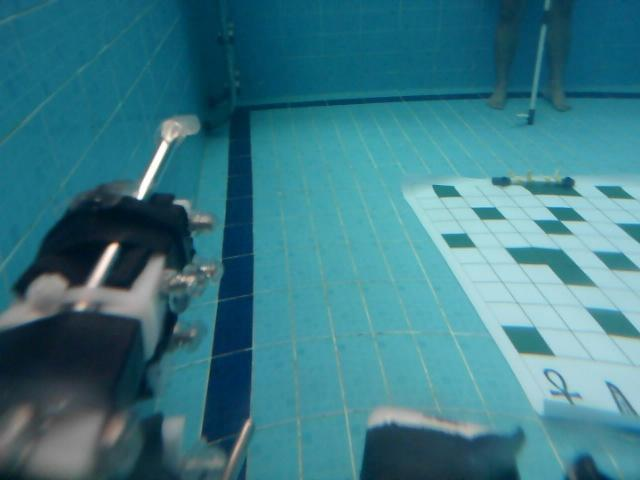Ankh: (539, 366, 584, 412)
Reed: (604, 378, 639, 421)
